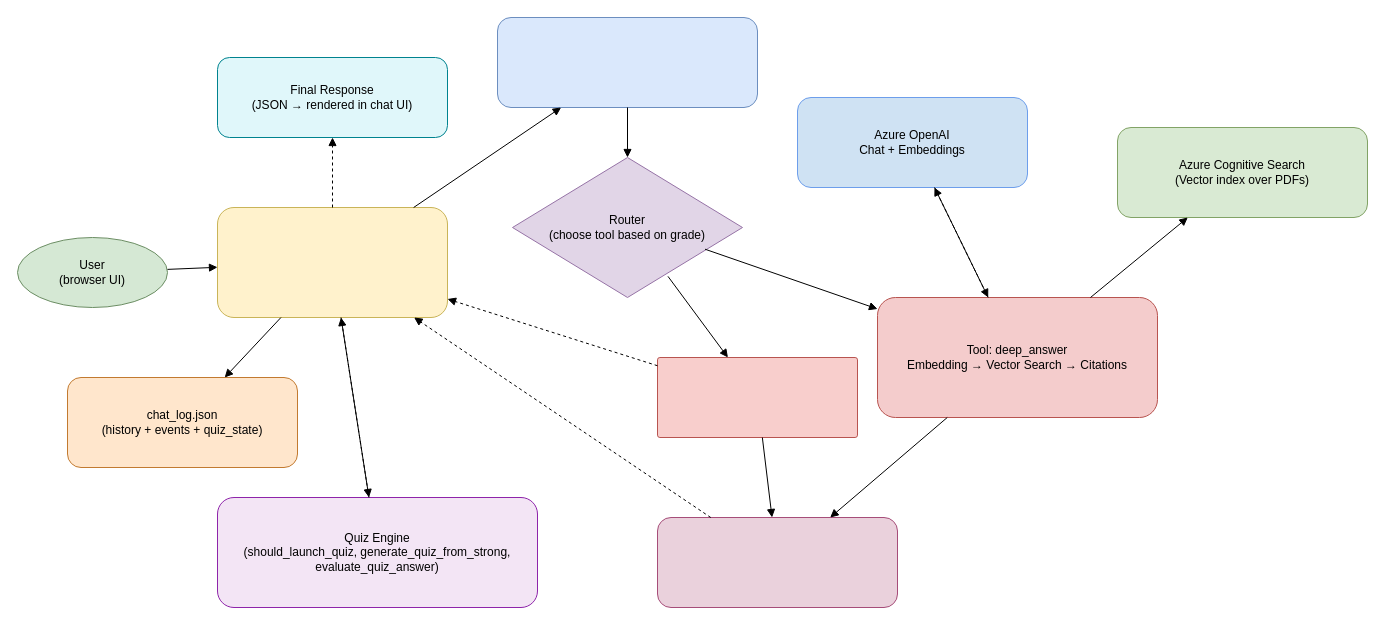
Some shapes in this 1385 by 625 pixel diagram are drawn without their labels. Here are the shapes that lost their labels. From the top down, the box of each, then its label:
(496, 16, 758, 108): Grader LLM grade_question_with_llm()
(216, 206, 448, 318): Flask Backend Route: /ask
(656, 356, 858, 438): Tool: brief_answer (short response LLM)
(656, 516, 898, 608): Verifier LLM verify_conceptual_relevance()
